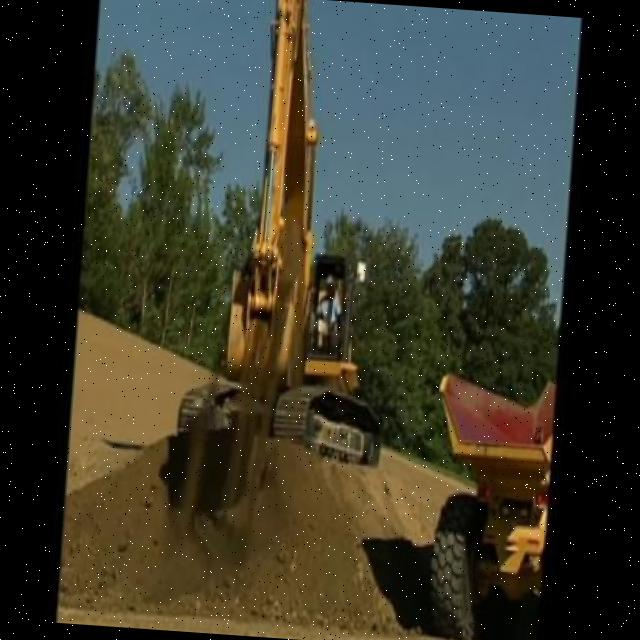Dump Truck: (414, 342, 557, 640)
Excavator: (163, 0, 410, 461)
